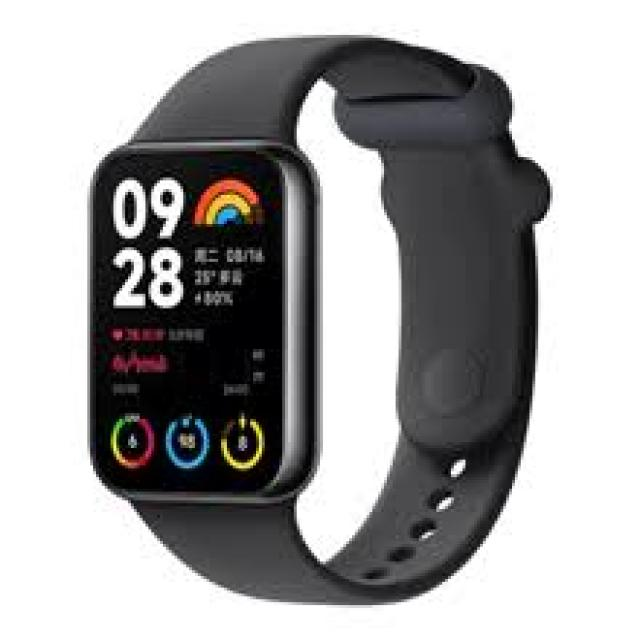objects: (90, 38, 547, 602)
